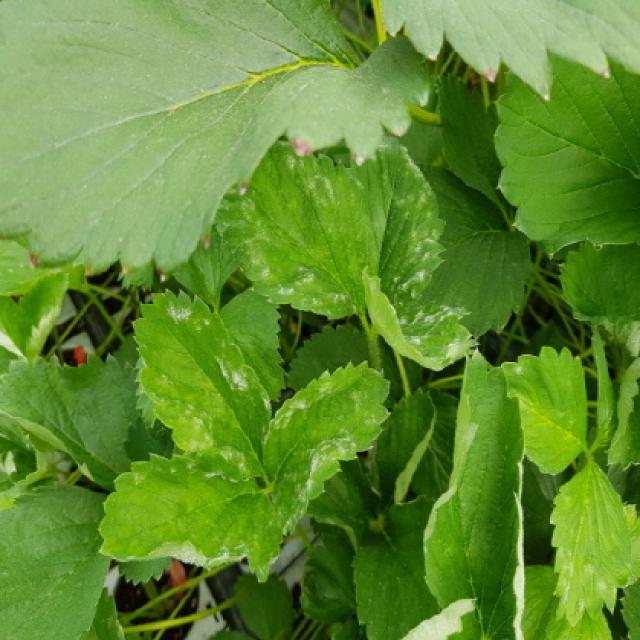Powdery Mildew Leaf: (215, 129, 401, 320), (422, 345, 527, 638), (133, 287, 275, 483), (96, 452, 285, 582), (264, 358, 393, 535), (549, 460, 640, 629), (363, 266, 481, 372), (379, 135, 449, 304)
